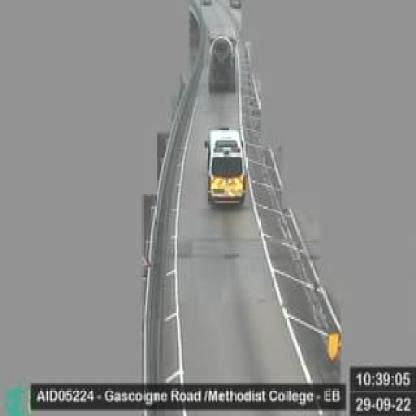Car: (199, 121, 252, 215)
Truck: (200, 26, 239, 95)
